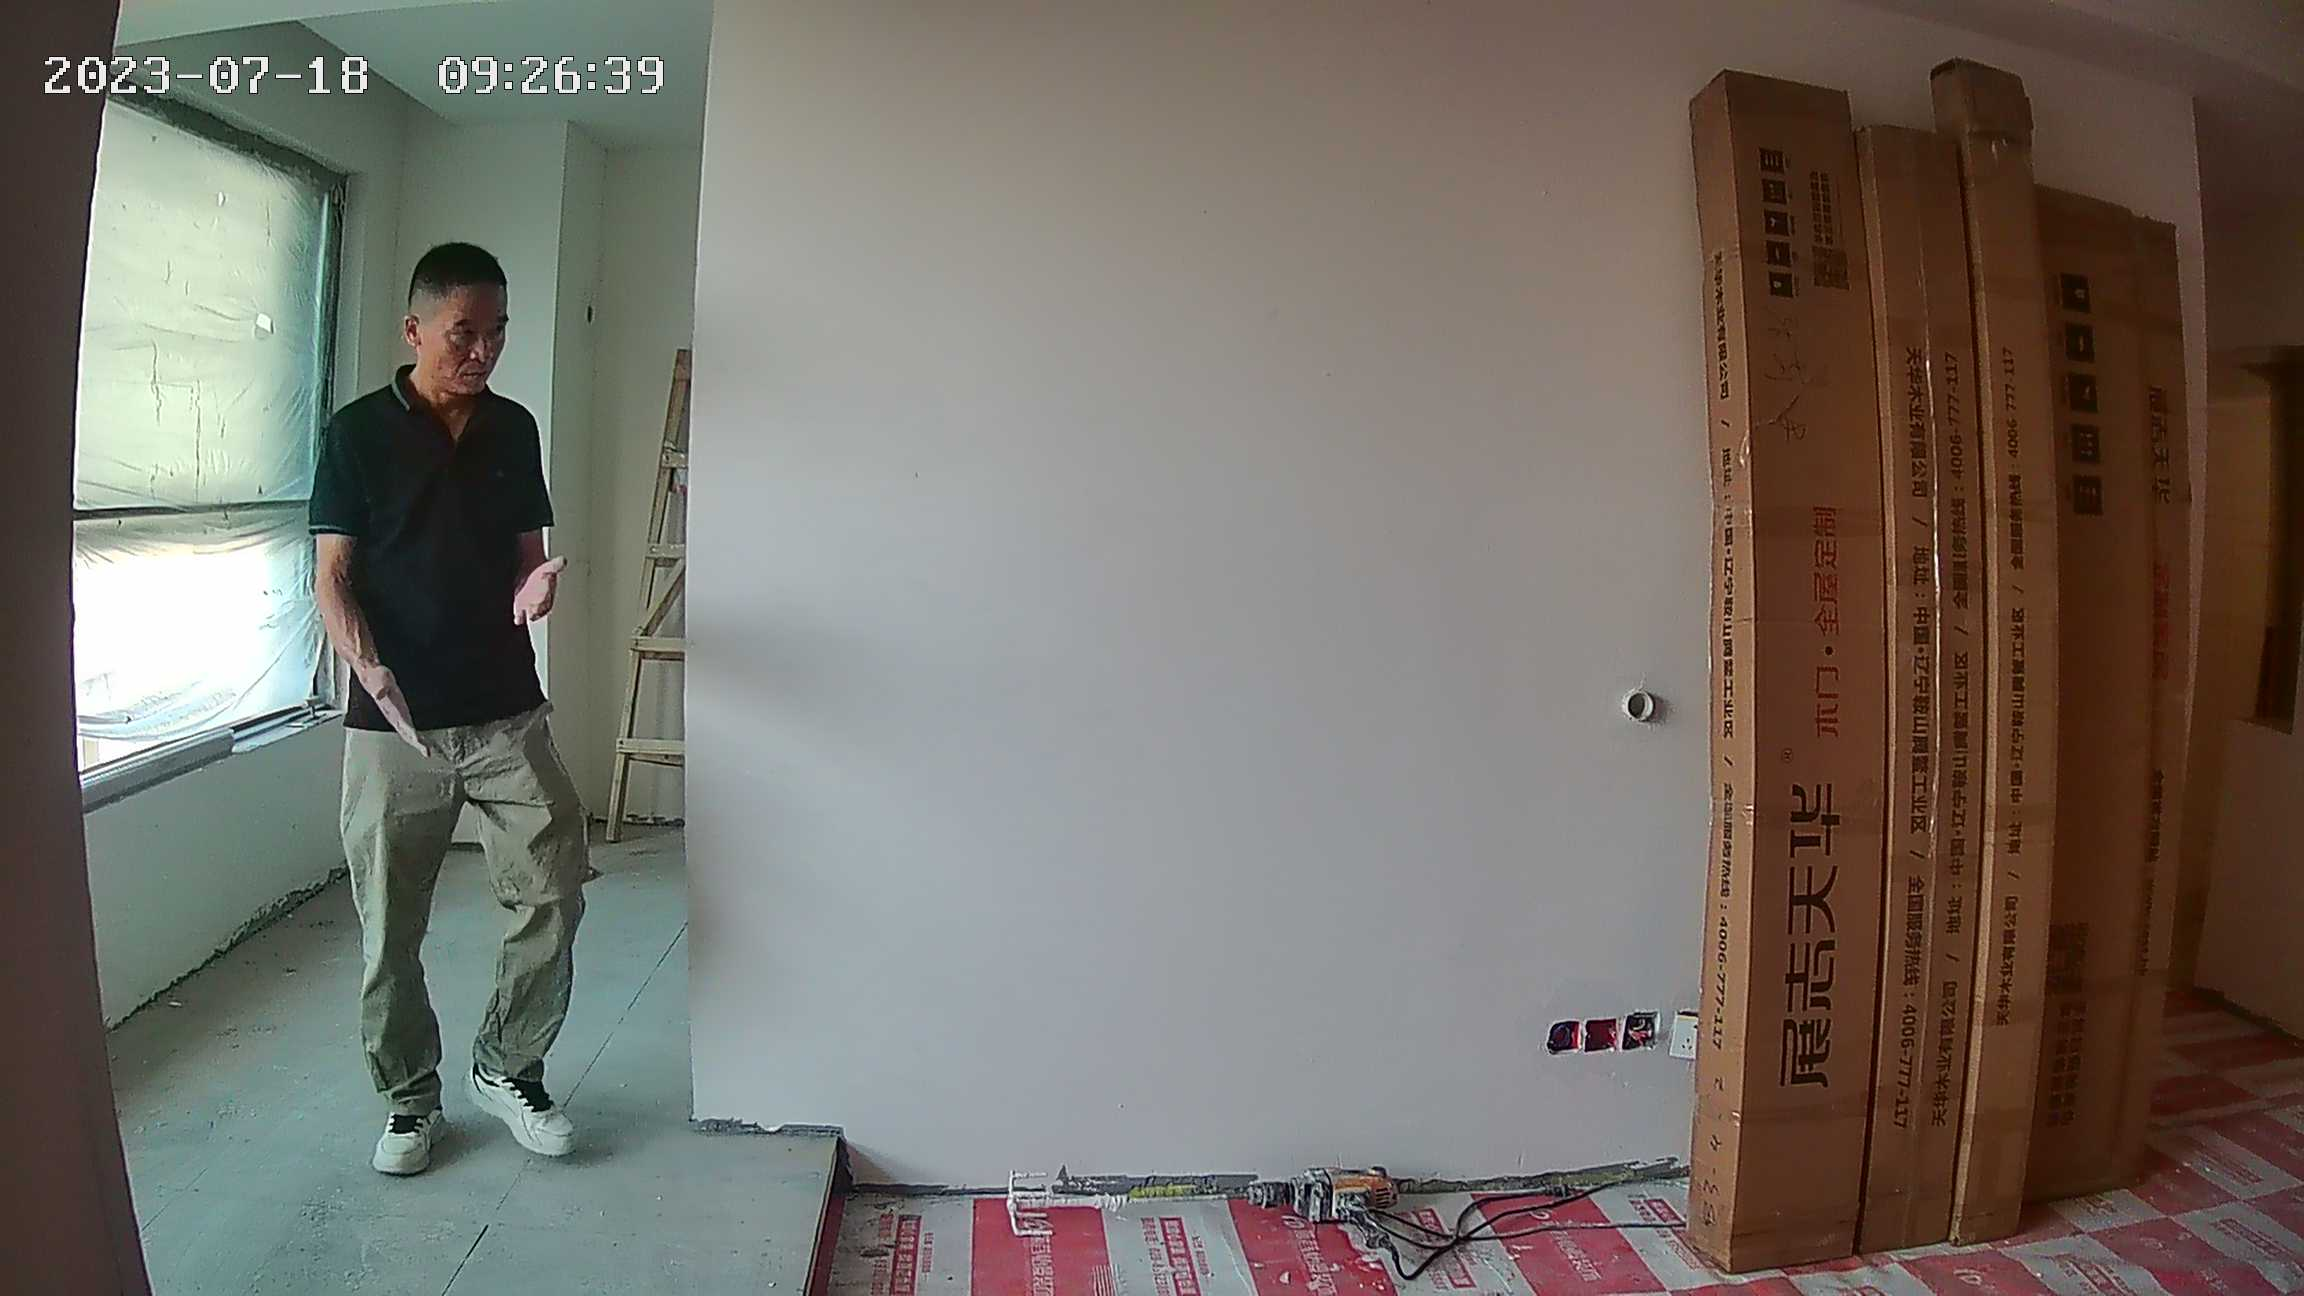people: (312, 242, 596, 1188)
window: (63, 115, 331, 801)
